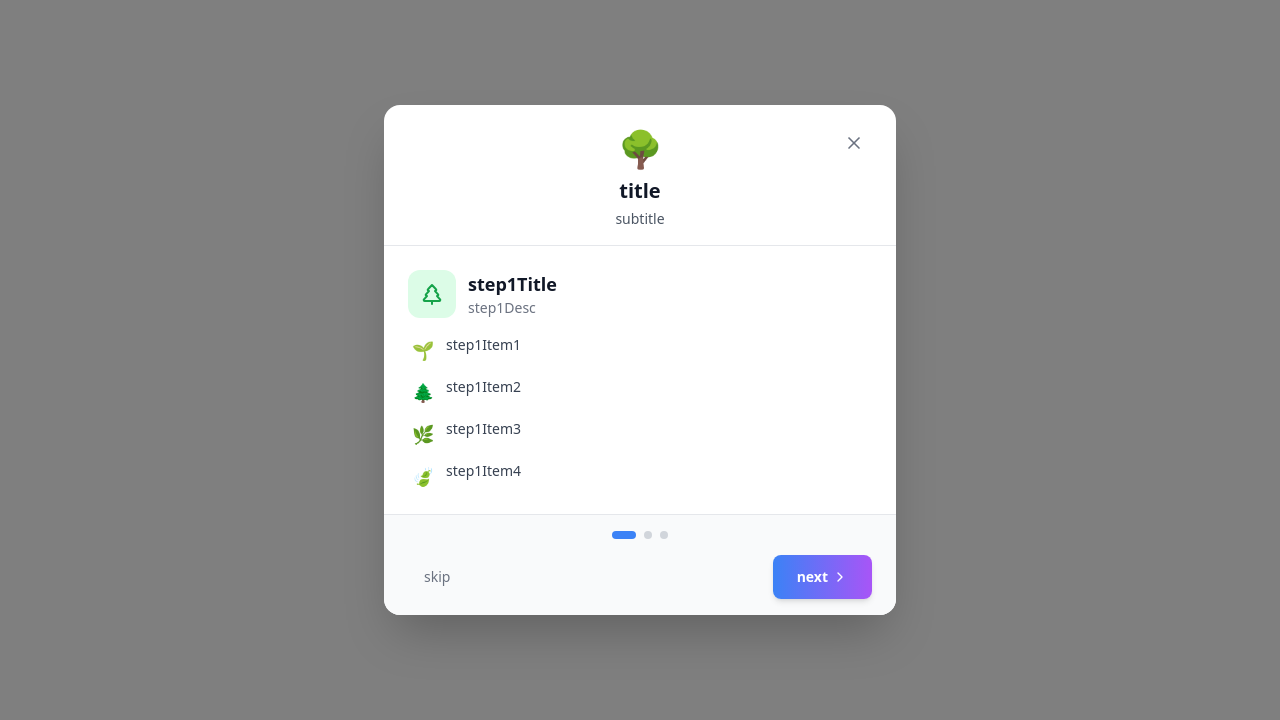
Test: WelcomeModal › shows Get Started on last step
Click the button "next" at (822, 577), box [773,555,872,599]
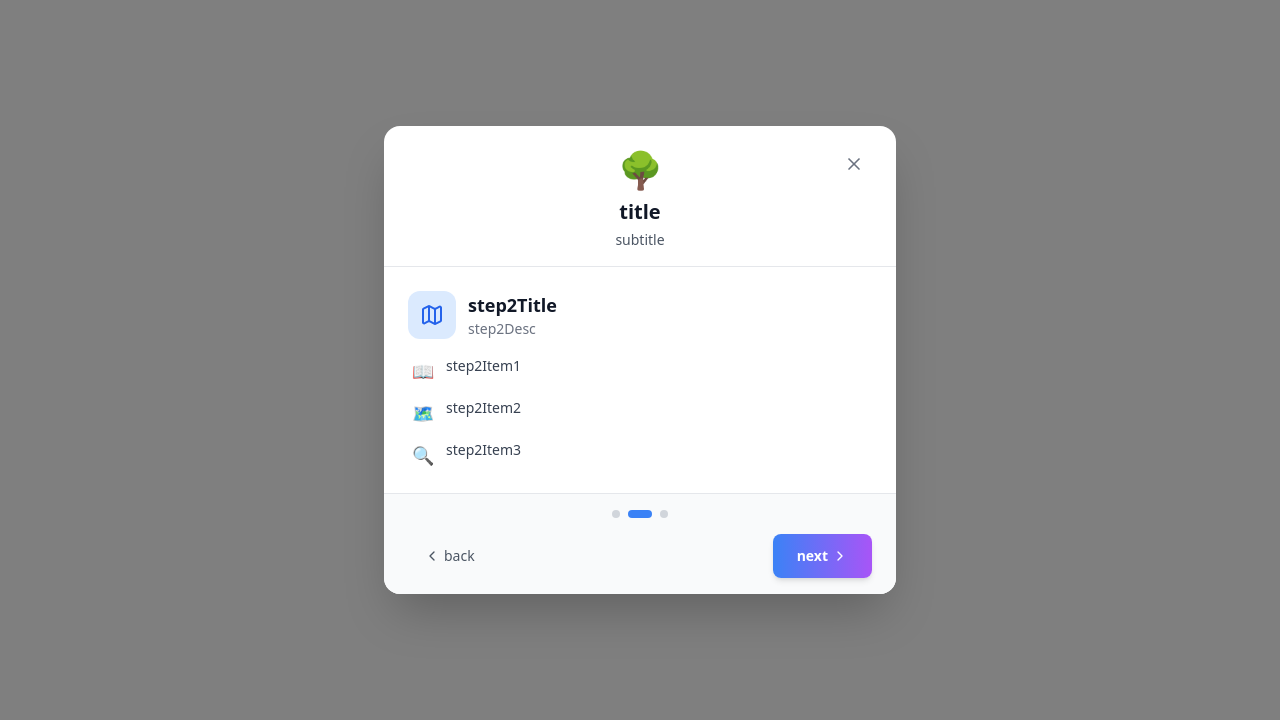
Click the button "next" at (822, 556), box [773,534,872,578]
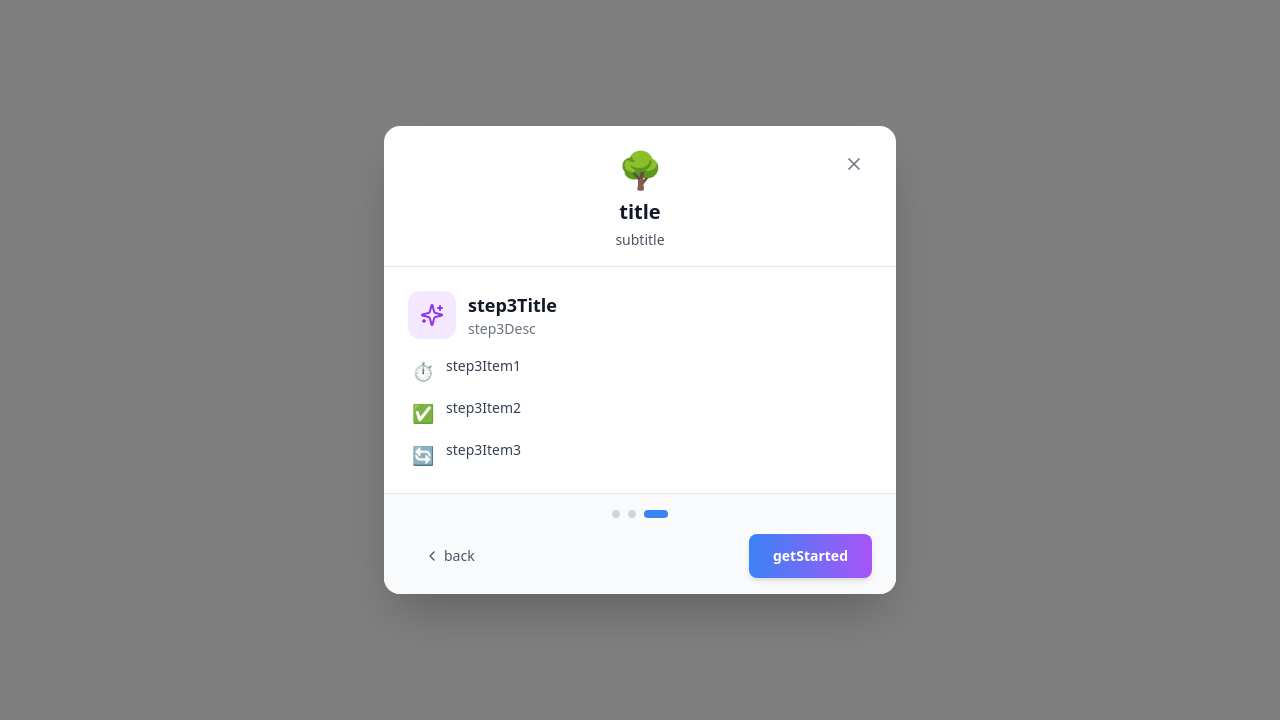
Result: the button "getStarted" is shown at [749,534,872,578]
